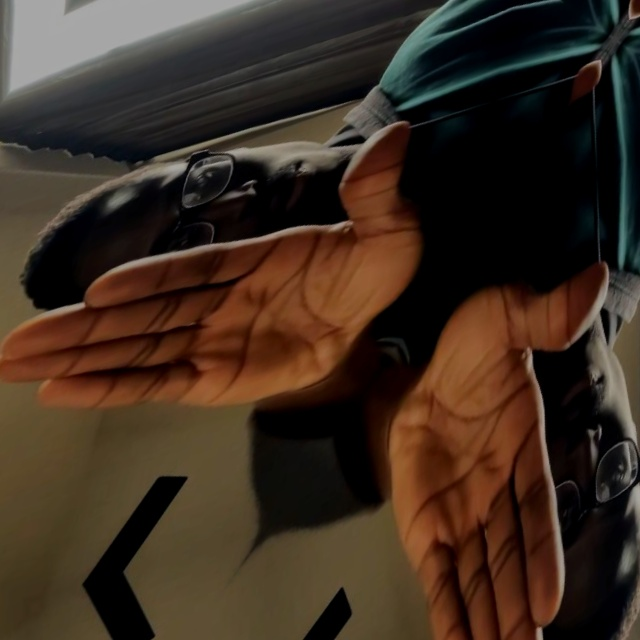Paper: (0, 0, 76, 326)
